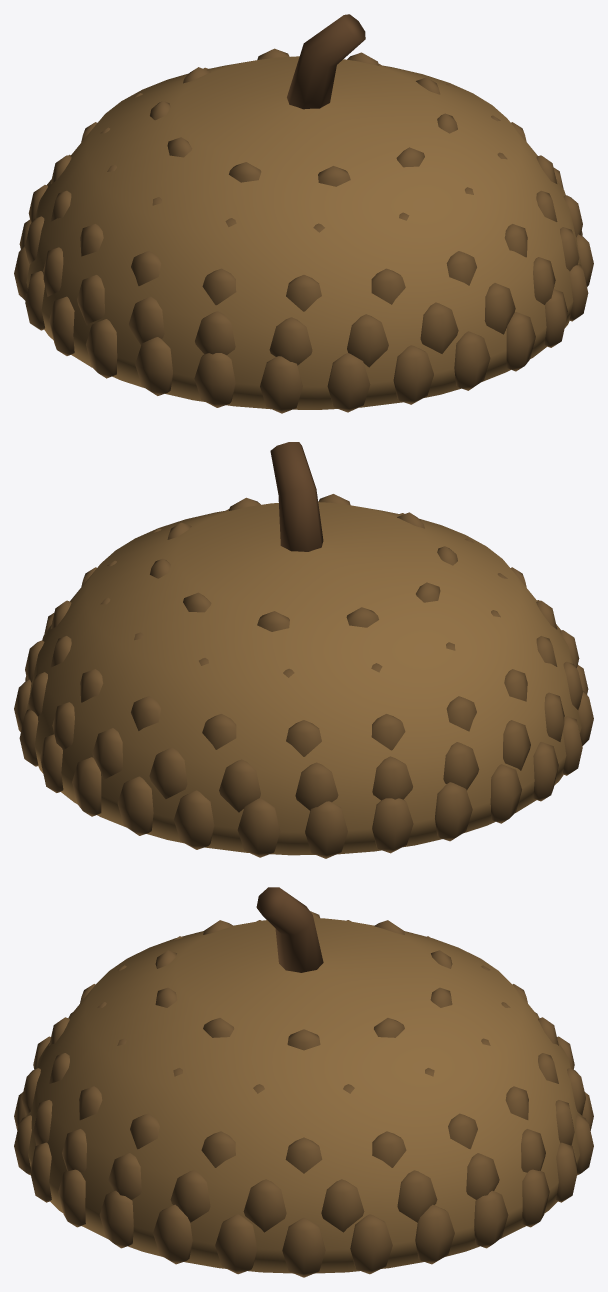
The model's file is cosmetics-acorncap.glb.
3 renders of one model, top to bottom at view 1: azimuth 30°, elevation 25°; view 2: azimuth 150°, elevation 25°; view 3: azimuth 270°, elevation 25°, orthographic.
Visible parts, largest first — view 1: AcornCap__Cup, AcornCap__Scales, AcornCap__Stem; view 2: AcornCap__Cup, AcornCap__Scales, AcornCap__Stem; view 3: AcornCap__Cup, AcornCap__Scales, AcornCap__Stem.
Boxes of the visible parts, x1,y1,x2,y2 form: AcornCap__Cup: (26,56,581,409); AcornCap__Scales: (14,48,593,413); AcornCap__Stem: (287,14,365,109); AcornCap__Cup: (26,502,581,855); AcornCap__Scales: (14,494,593,858); AcornCap__Stem: (270,442,323,551); AcornCap__Cup: (25,918,582,1273); AcornCap__Scales: (14,911,593,1277); AcornCap__Stem: (256,887,323,972).
Size of the model in its own units: 1.76 by 0.9563 by 1.75.
